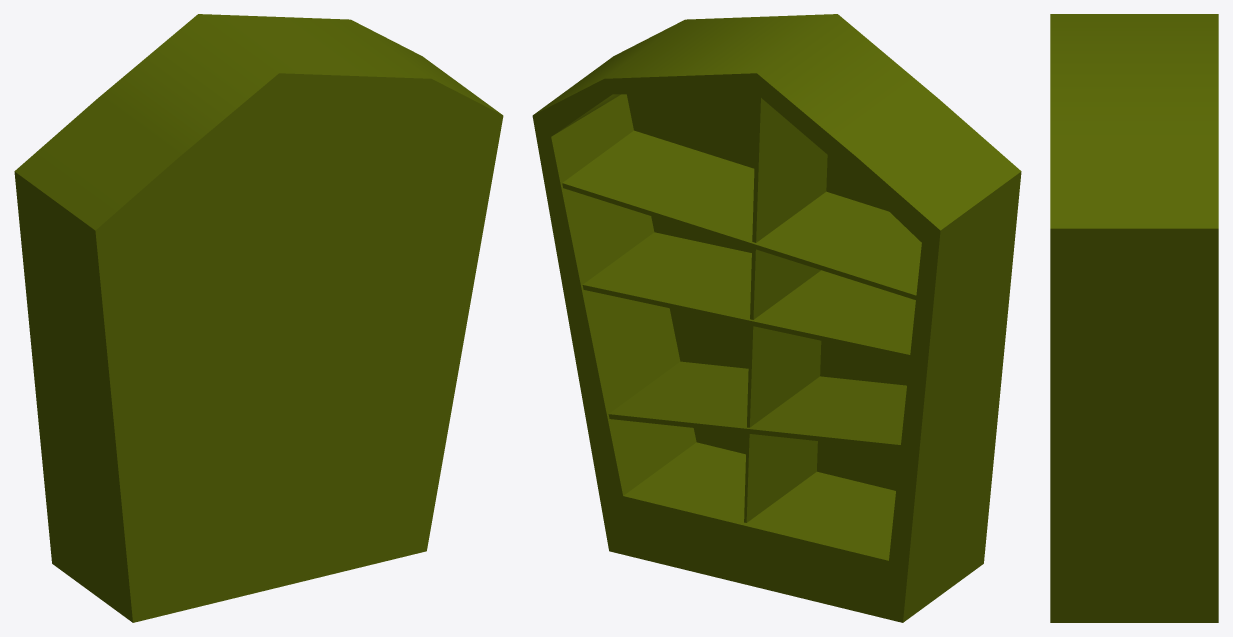
The model's file is BgMD_bookshelf_mid (2).fbx.
3 renders of one model, left to right at view 1: azimuth 30°, elevation 25°; view 2: azimuth 150°, elevation 25°; view 3: azimuth 270°, elevation 25°, orthographic. The views are drawn at different scales.
Visible parts, largest first — view 1: Bg_Bookshelf_Mid; view 2: Bg_Bookshelf_Mid; view 3: Bg_Bookshelf_Mid.
Part boxes in pixels (x1,y1,x2,y2): Bg_Bookshelf_Mid: (14, 14, 503, 622); Bg_Bookshelf_Mid: (532, 14, 1021, 622); Bg_Bookshelf_Mid: (1050, 14, 1218, 622).
Bounding box in the file's own units: 90.22 × 109 × 31.
Materials: 1 (1 with a texture image).
